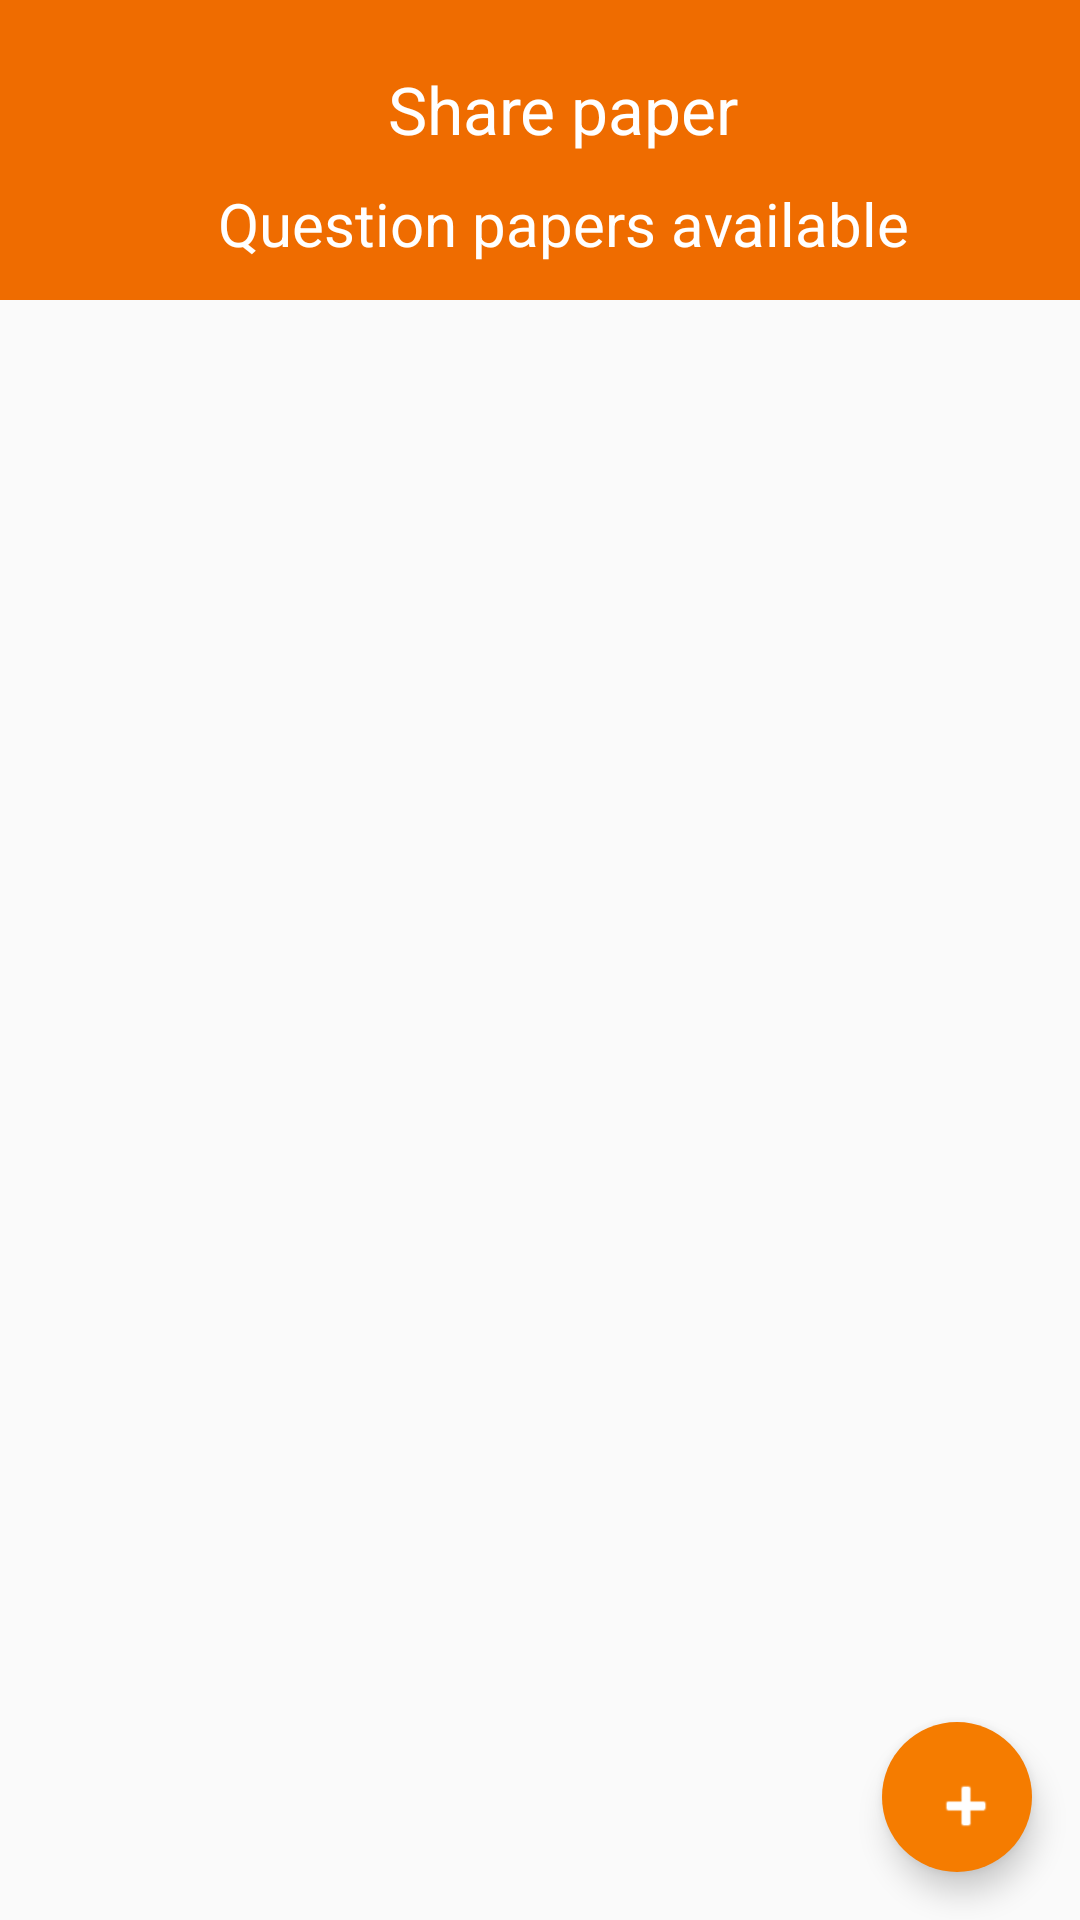

Icon bounding boxes for this 1080px x 1920px phone screenshot, format (x1, y1, x2, y2):
add: (882, 1722, 1032, 1872)
